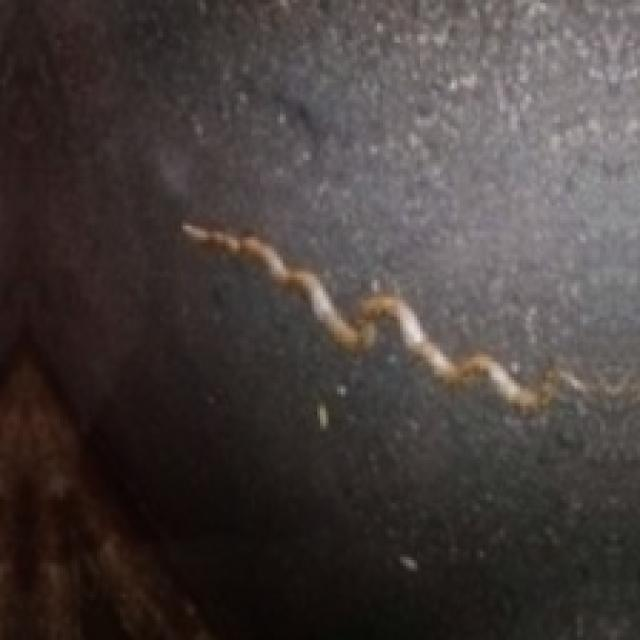reticulated python: (180, 223, 637, 409), (180, 223, 554, 409)
